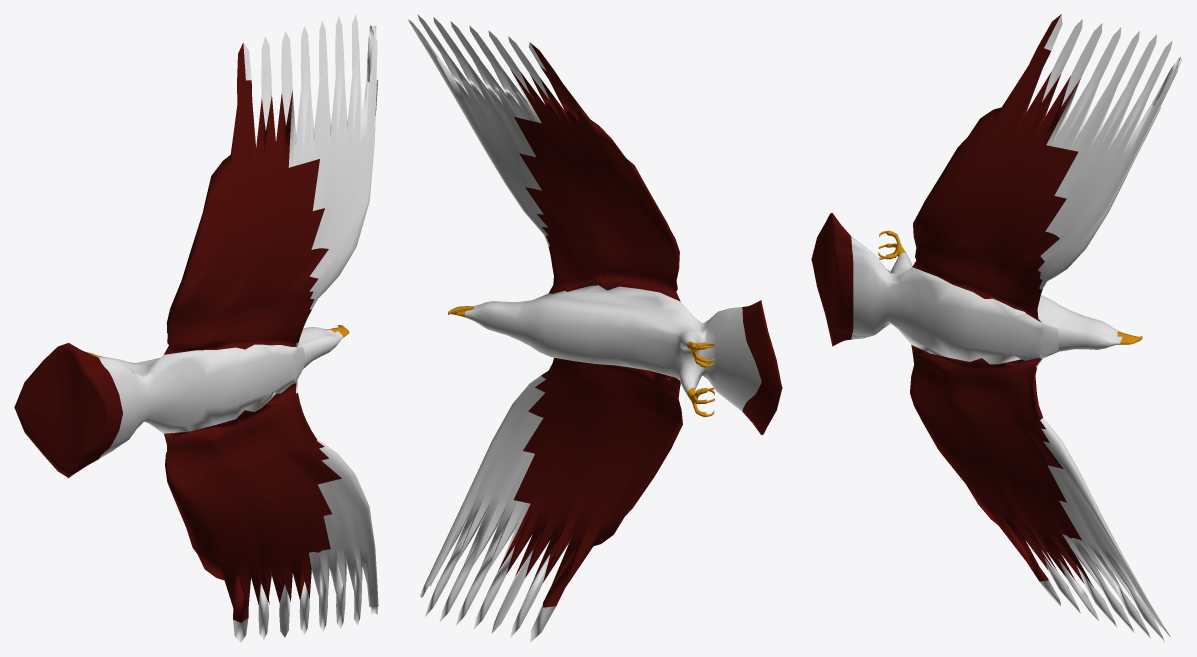
File: Eagle-parts.obj
3 views of the same model, side by side, from view 1: azimuth 30°, elevation 25°; view 2: azimuth 150°, elevation 25°; view 3: azimuth 330°, elevation 25° (orthographic).
Parts seen in each view (by area): view 1: Left_Wing, Right_Wing, Left_Wing_Tip_Left_Wing.001, Body, Tail, Right_Wing_Tip_Right_Wing.001, Head; view 2: Right_Wing, Left_Wing, Body, Right_Wing_Tip_Right_Wing.001, Left_Wing_Tip_Left_Wing.001, Tail, Head, Tallon; view 3: Left_Wing, Right_Wing, Left_Wing_Tip_Left_Wing.001, Body, Right_Wing_Tip_Right_Wing.001, Tail, Head.
Part boxes in pixels (x1,y1,x2,y2): Left_Wing: [164, 43, 328, 354]; Right_Wing: [164, 383, 341, 622]; Left_Wing_Tip_Left_Wing.001: [243, 14, 378, 309]; Body: [94, 342, 305, 458]; Tail: [14, 343, 122, 478]; Right_Wing_Tip_Right_Wing.001: [233, 439, 378, 642]; Head: [298, 327, 343, 368]; Right_Wing: [498, 357, 682, 607]; Left_Wing: [510, 42, 680, 301]; Body: [518, 285, 761, 411]; Right_Wing_Tip_Right_Wing.001: [419, 371, 555, 642]; Left_Wing_Tip_Left_Wing.001: [408, 14, 549, 246]; Tail: [742, 300, 782, 434]; Head: [465, 300, 532, 339]; Tallon: [687, 341, 714, 417]; Left_Wing: [912, 14, 1080, 321]; Right_Wing: [910, 345, 1092, 585]; Left_Wing_Tip_Left_Wing.001: [1038, 14, 1182, 289]; Body: [851, 236, 1070, 367]; Right_Wing_Tip_Right_Wing.001: [1040, 417, 1170, 642]; Tail: [811, 213, 853, 346]; Head: [1058, 311, 1124, 351].
Size of the model in its own units: 0.0671 by 0.1061 by 0.0159.
